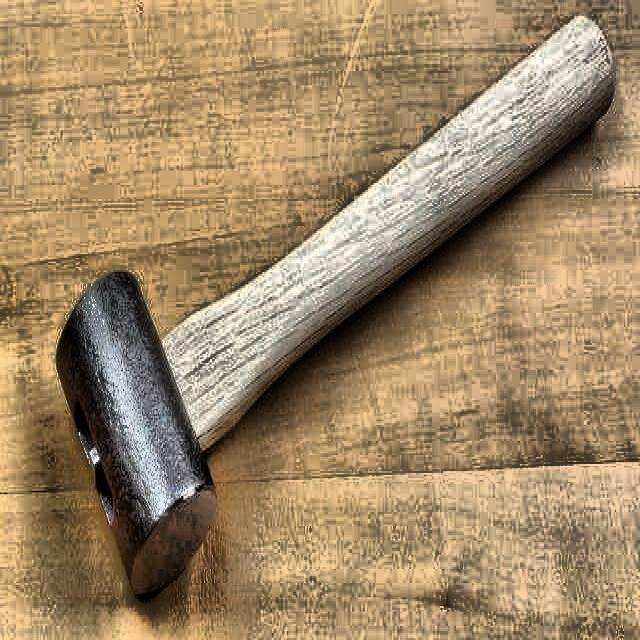hammer: (53, 13, 629, 607)
